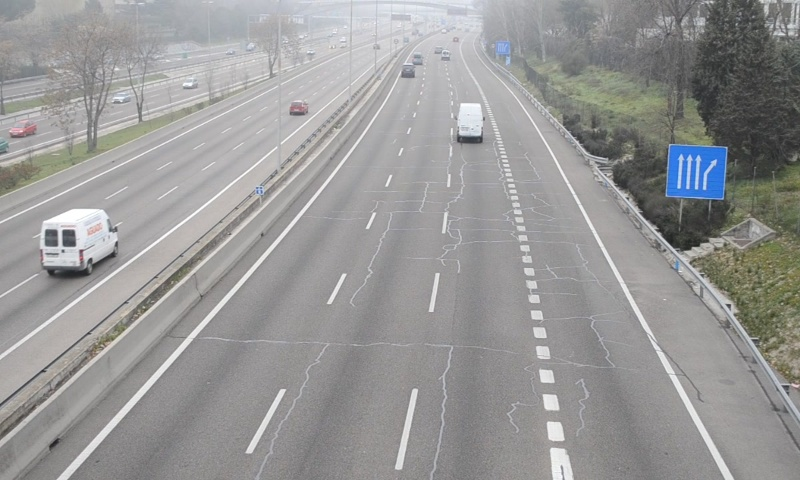car: (400, 63, 414, 78)
van: (456, 102, 484, 142)
